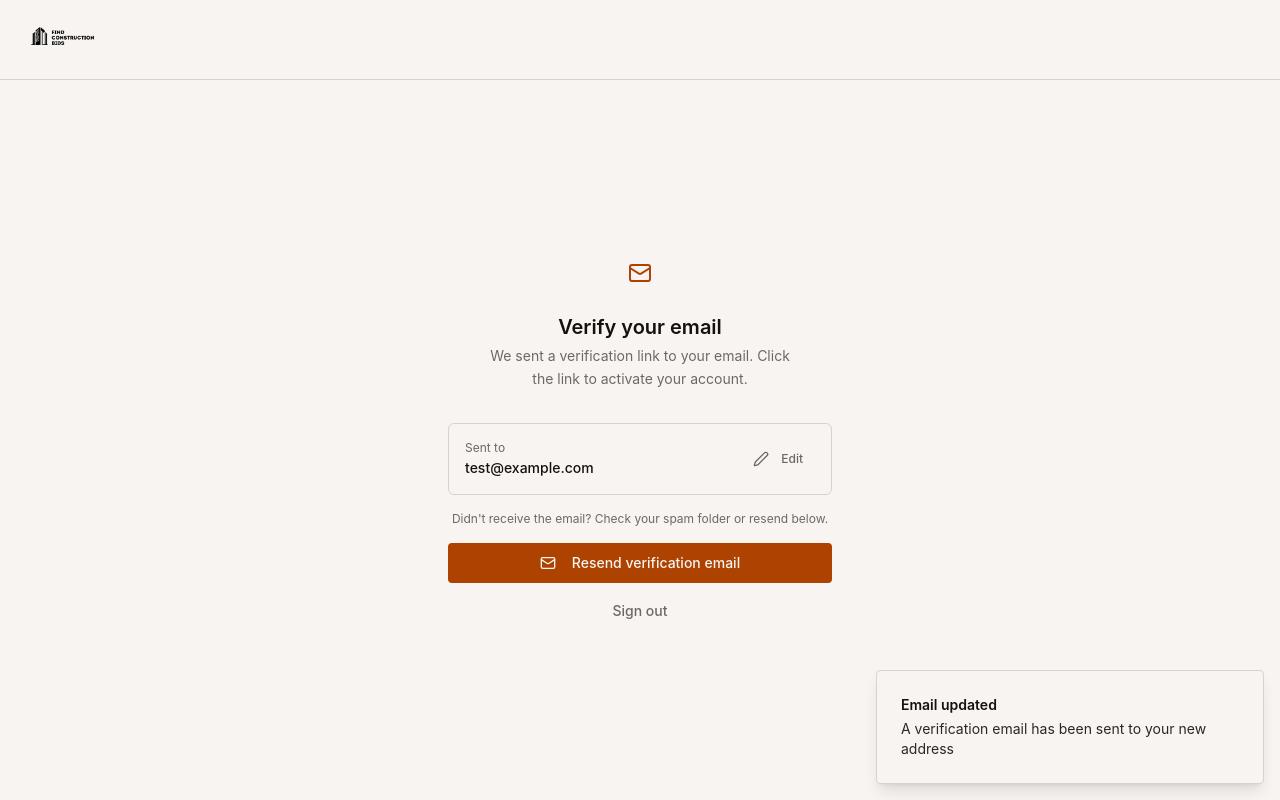
Test: EmailVerificationPendingPage › edit email flow › shows a validation error for invalid email in the edit form
The image size is (1280, 800).
Click the button with test id "button-edit-email" at (778, 459), box [741,441,815,477]
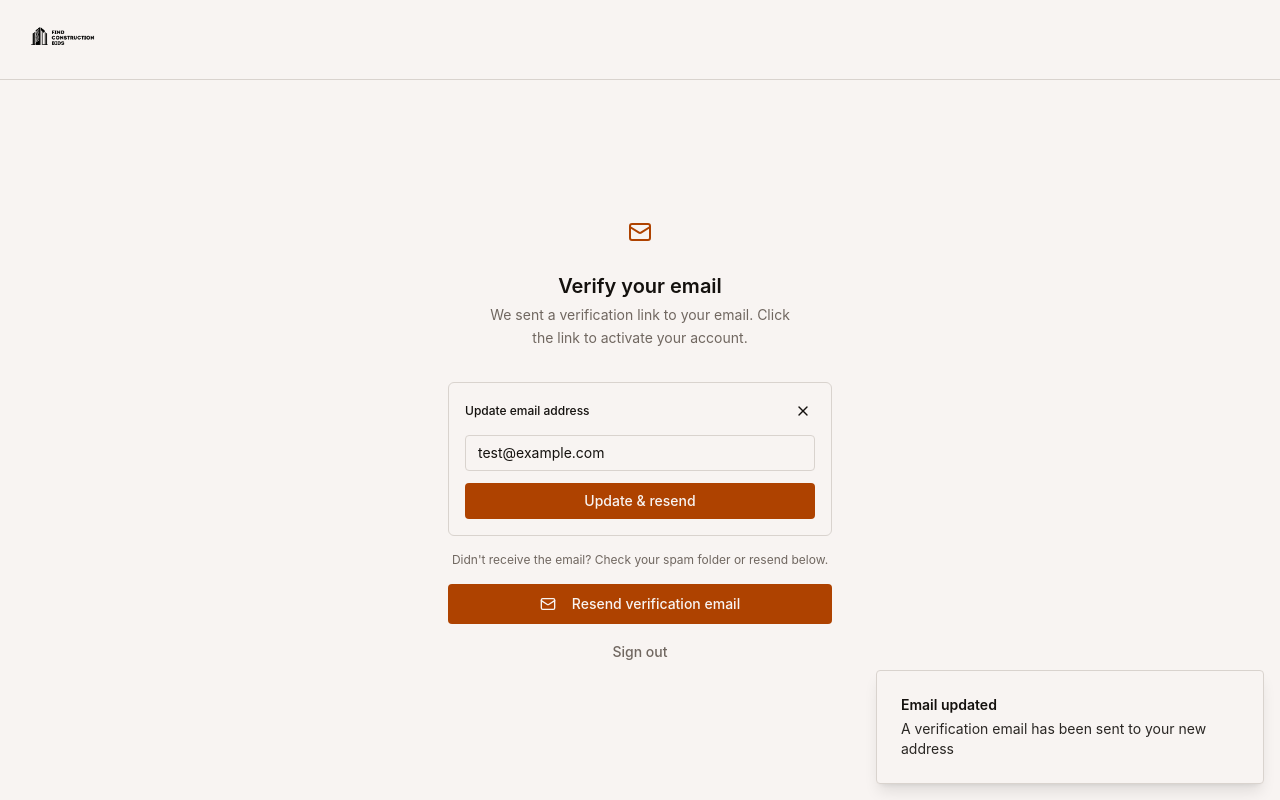
Replace the text in the field with test id "input-new-email" with "not-valid" at (640, 453), box [465,435,815,471]
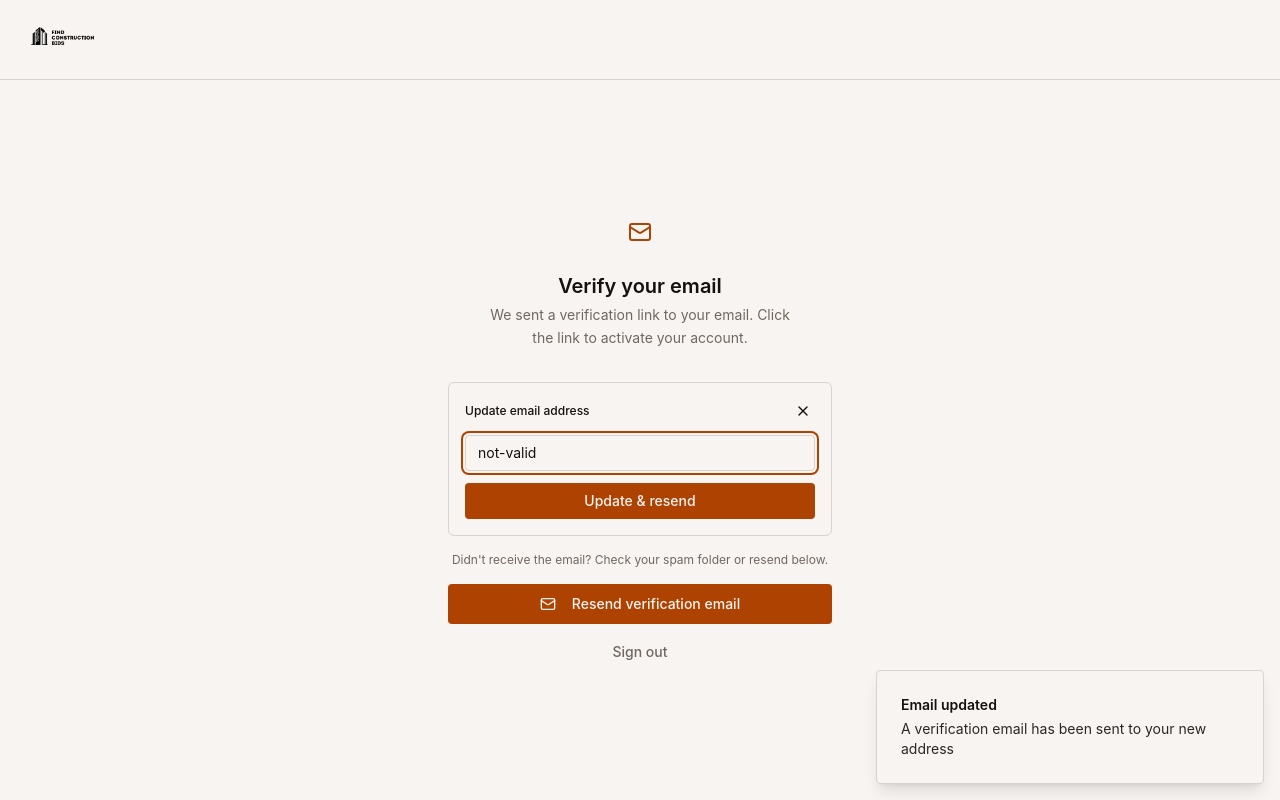
Submit the form with test id "input-new-email", box [465,399,815,519]
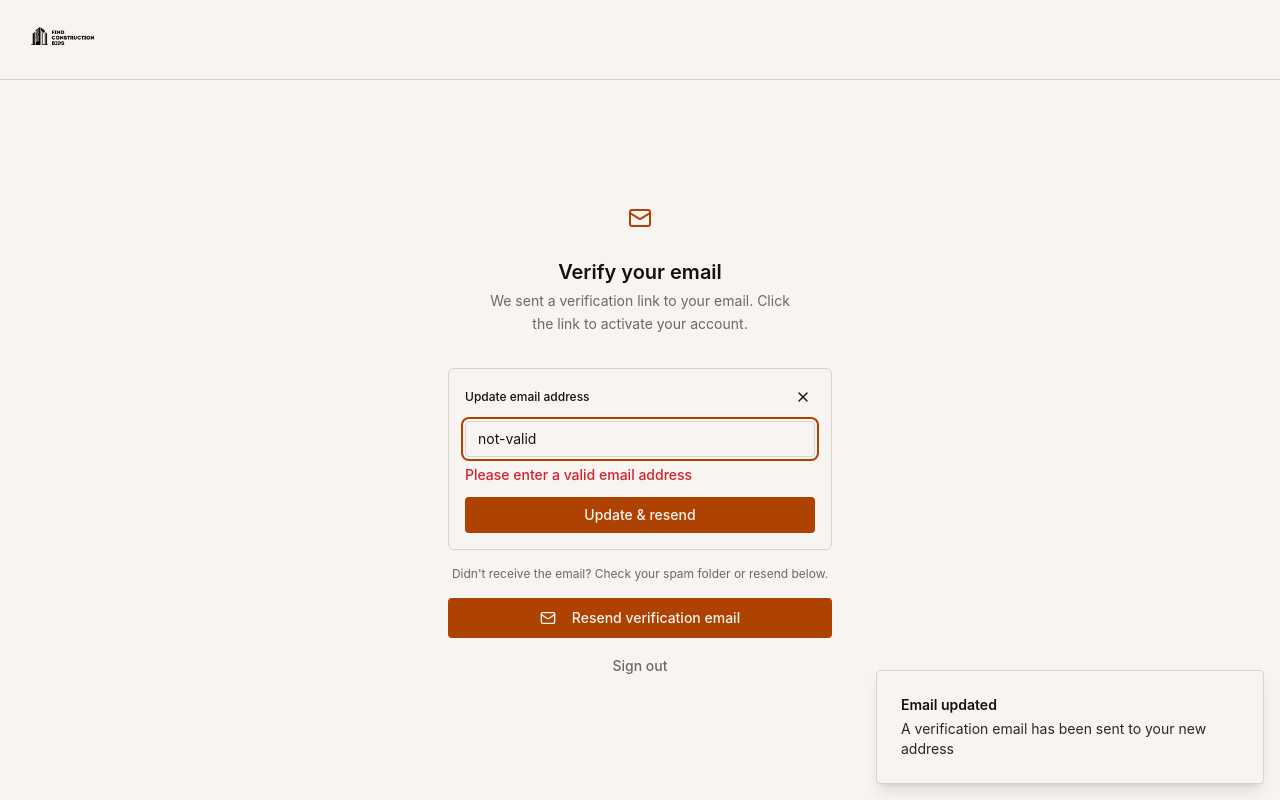
Expected: the text "Please enter a valid email address" is shown, [465,466,692,483]
